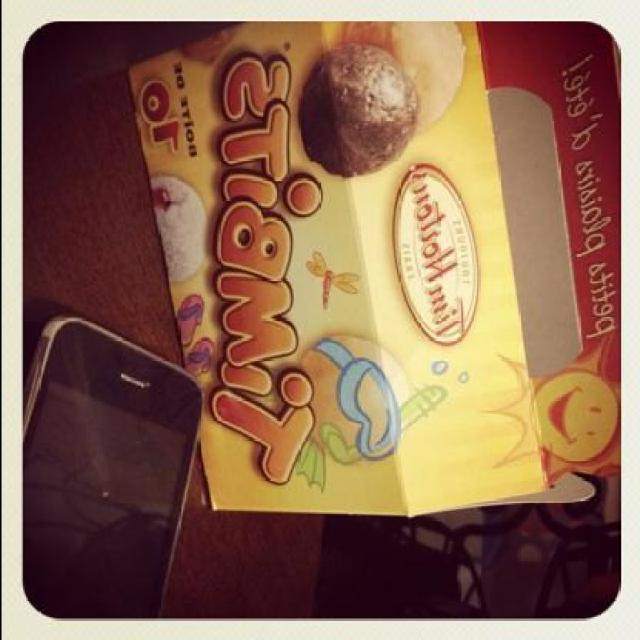phone: (18, 291, 189, 623)
